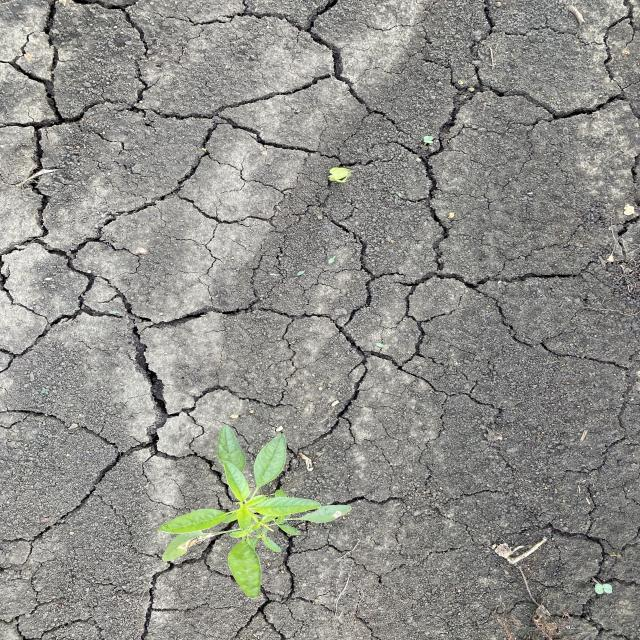Waterhemp: (156, 424, 354, 600)
